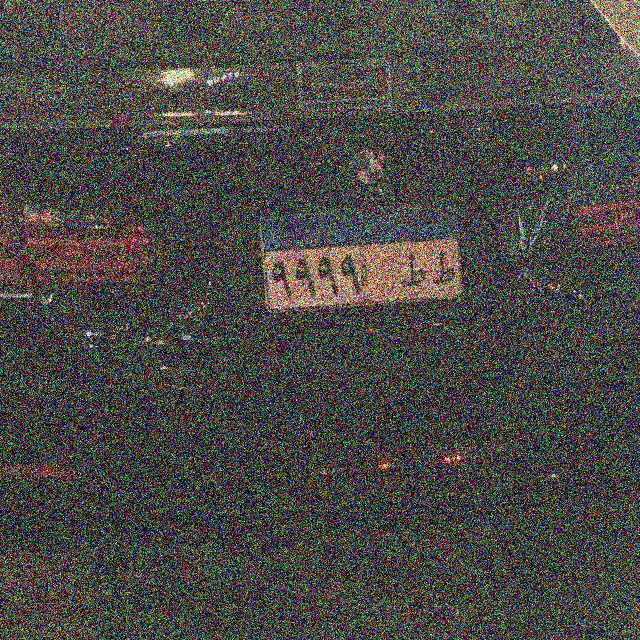License Plate: (255, 199, 465, 316)
